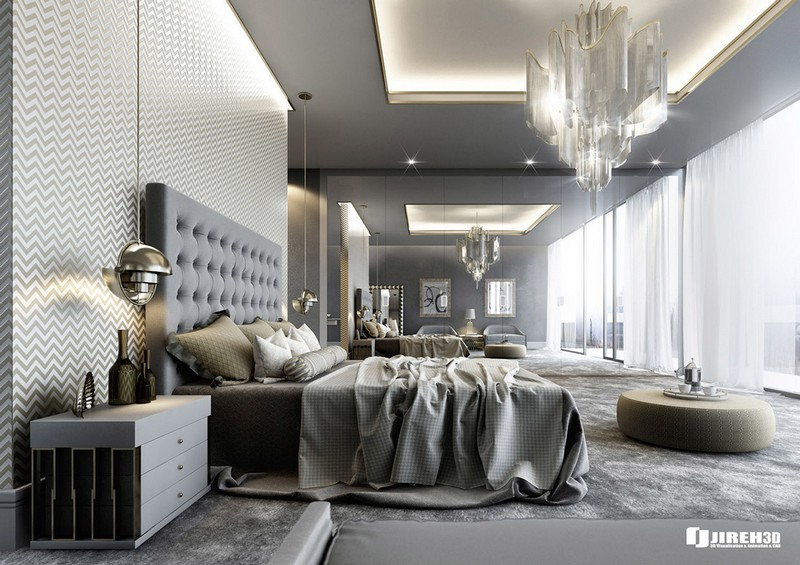bed: (153, 217, 588, 506)
lamp: (102, 103, 171, 314), (291, 206, 319, 317)
sofa: (476, 321, 532, 347)
stool: (30, 395, 215, 542)
